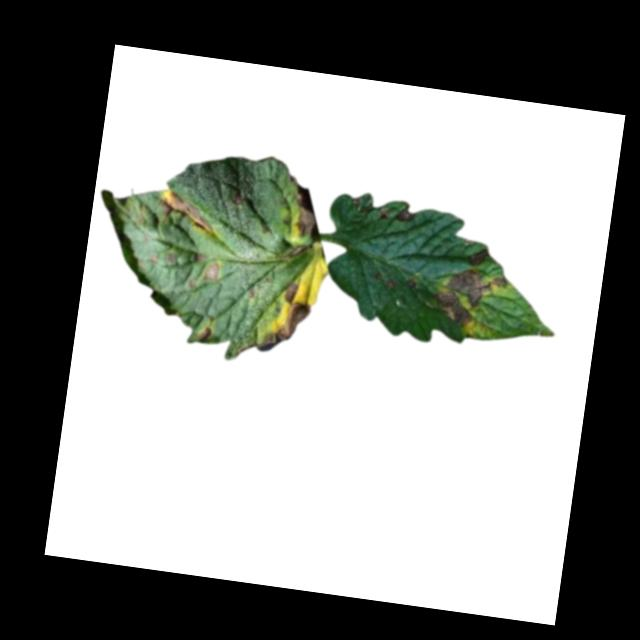Early_blight: (430, 264, 510, 333), (254, 277, 316, 357), (153, 184, 222, 235), (292, 182, 327, 245), (202, 258, 220, 284), (393, 205, 416, 224), (194, 323, 211, 344), (405, 276, 419, 287), (388, 276, 399, 287)
